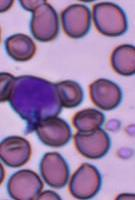L: (8, 74, 60, 121)
